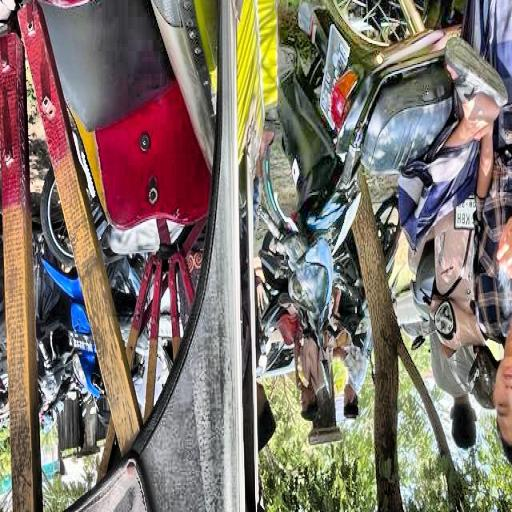Rokok: (467, 0, 512, 467)
